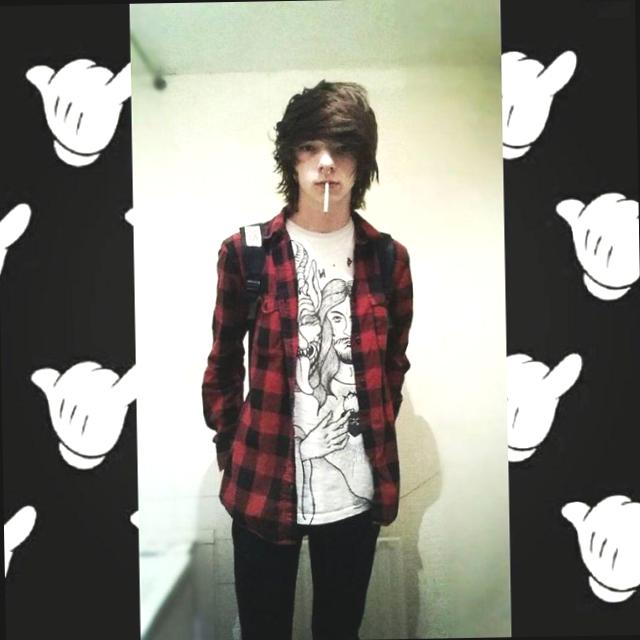cigarette: (316, 176, 338, 221)
